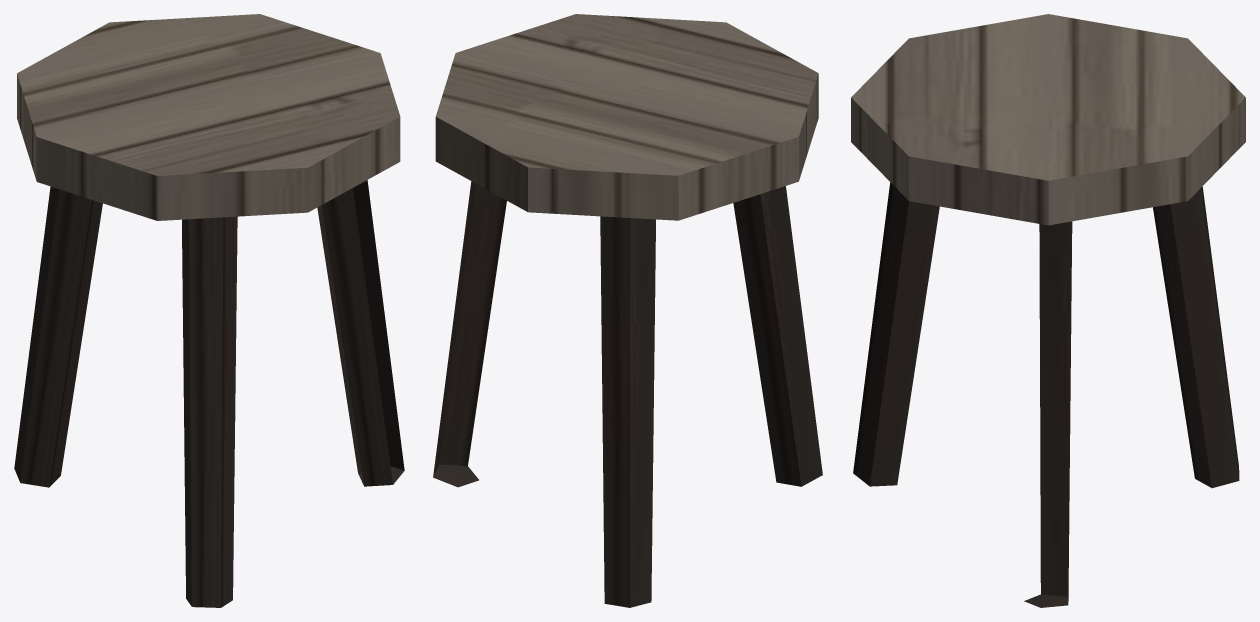
Rendered from stool_01.glb.
The picture shows the model from 3 angles, left to right: view 1: azimuth 30°, elevation 25°; view 2: azimuth 150°, elevation 25°; view 3: azimuth 270°, elevation 25°; orthographic projection.
Parts seen in each view (by area): view 1: stool_01; view 2: stool_01; view 3: stool_01.
Part boxes in pixels (left/top/right/bottom): stool_01: left=14, top=14, right=404, bottom=607; stool_01: left=433, top=14, right=822, bottom=607; stool_01: left=851, top=14, right=1245, bottom=607.
Size of the model in its own units: 0.4235 by 0.4735 by 0.4.
Materials: 2 (2 with a texture image).
